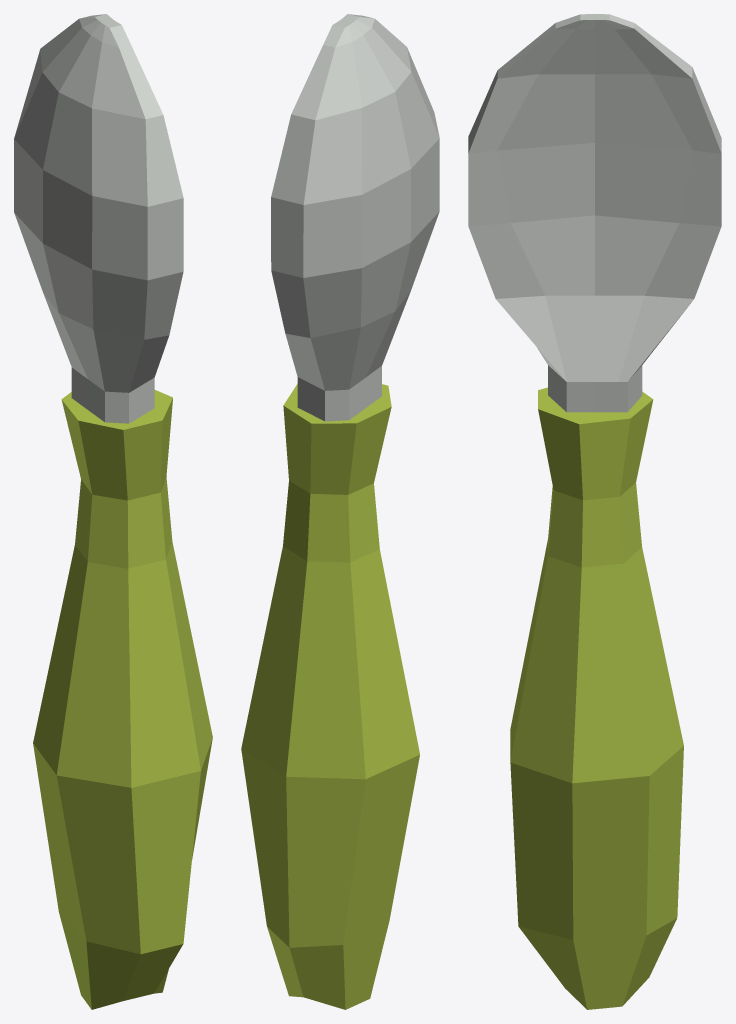
Rendered from spoon-green.fbx.
The picture shows the model from 3 angles, left to right: view 1: azimuth 30°, elevation 25°; view 2: azimuth 150°, elevation 25°; view 3: azimuth 270°, elevation 25°; orthographic projection.
Parts seen in each view (by area): view 1: spoon.001; view 2: spoon.001; view 3: spoon.001.
Boxes of the visible parts, box(x1,y1,x2,y2) form: spoon.001: box(14, 14, 212, 1009); spoon.001: box(241, 14, 439, 1009); spoon.001: box(468, 14, 721, 1009).
Bounding box in the file's own units: 144 × 850 × 202.
